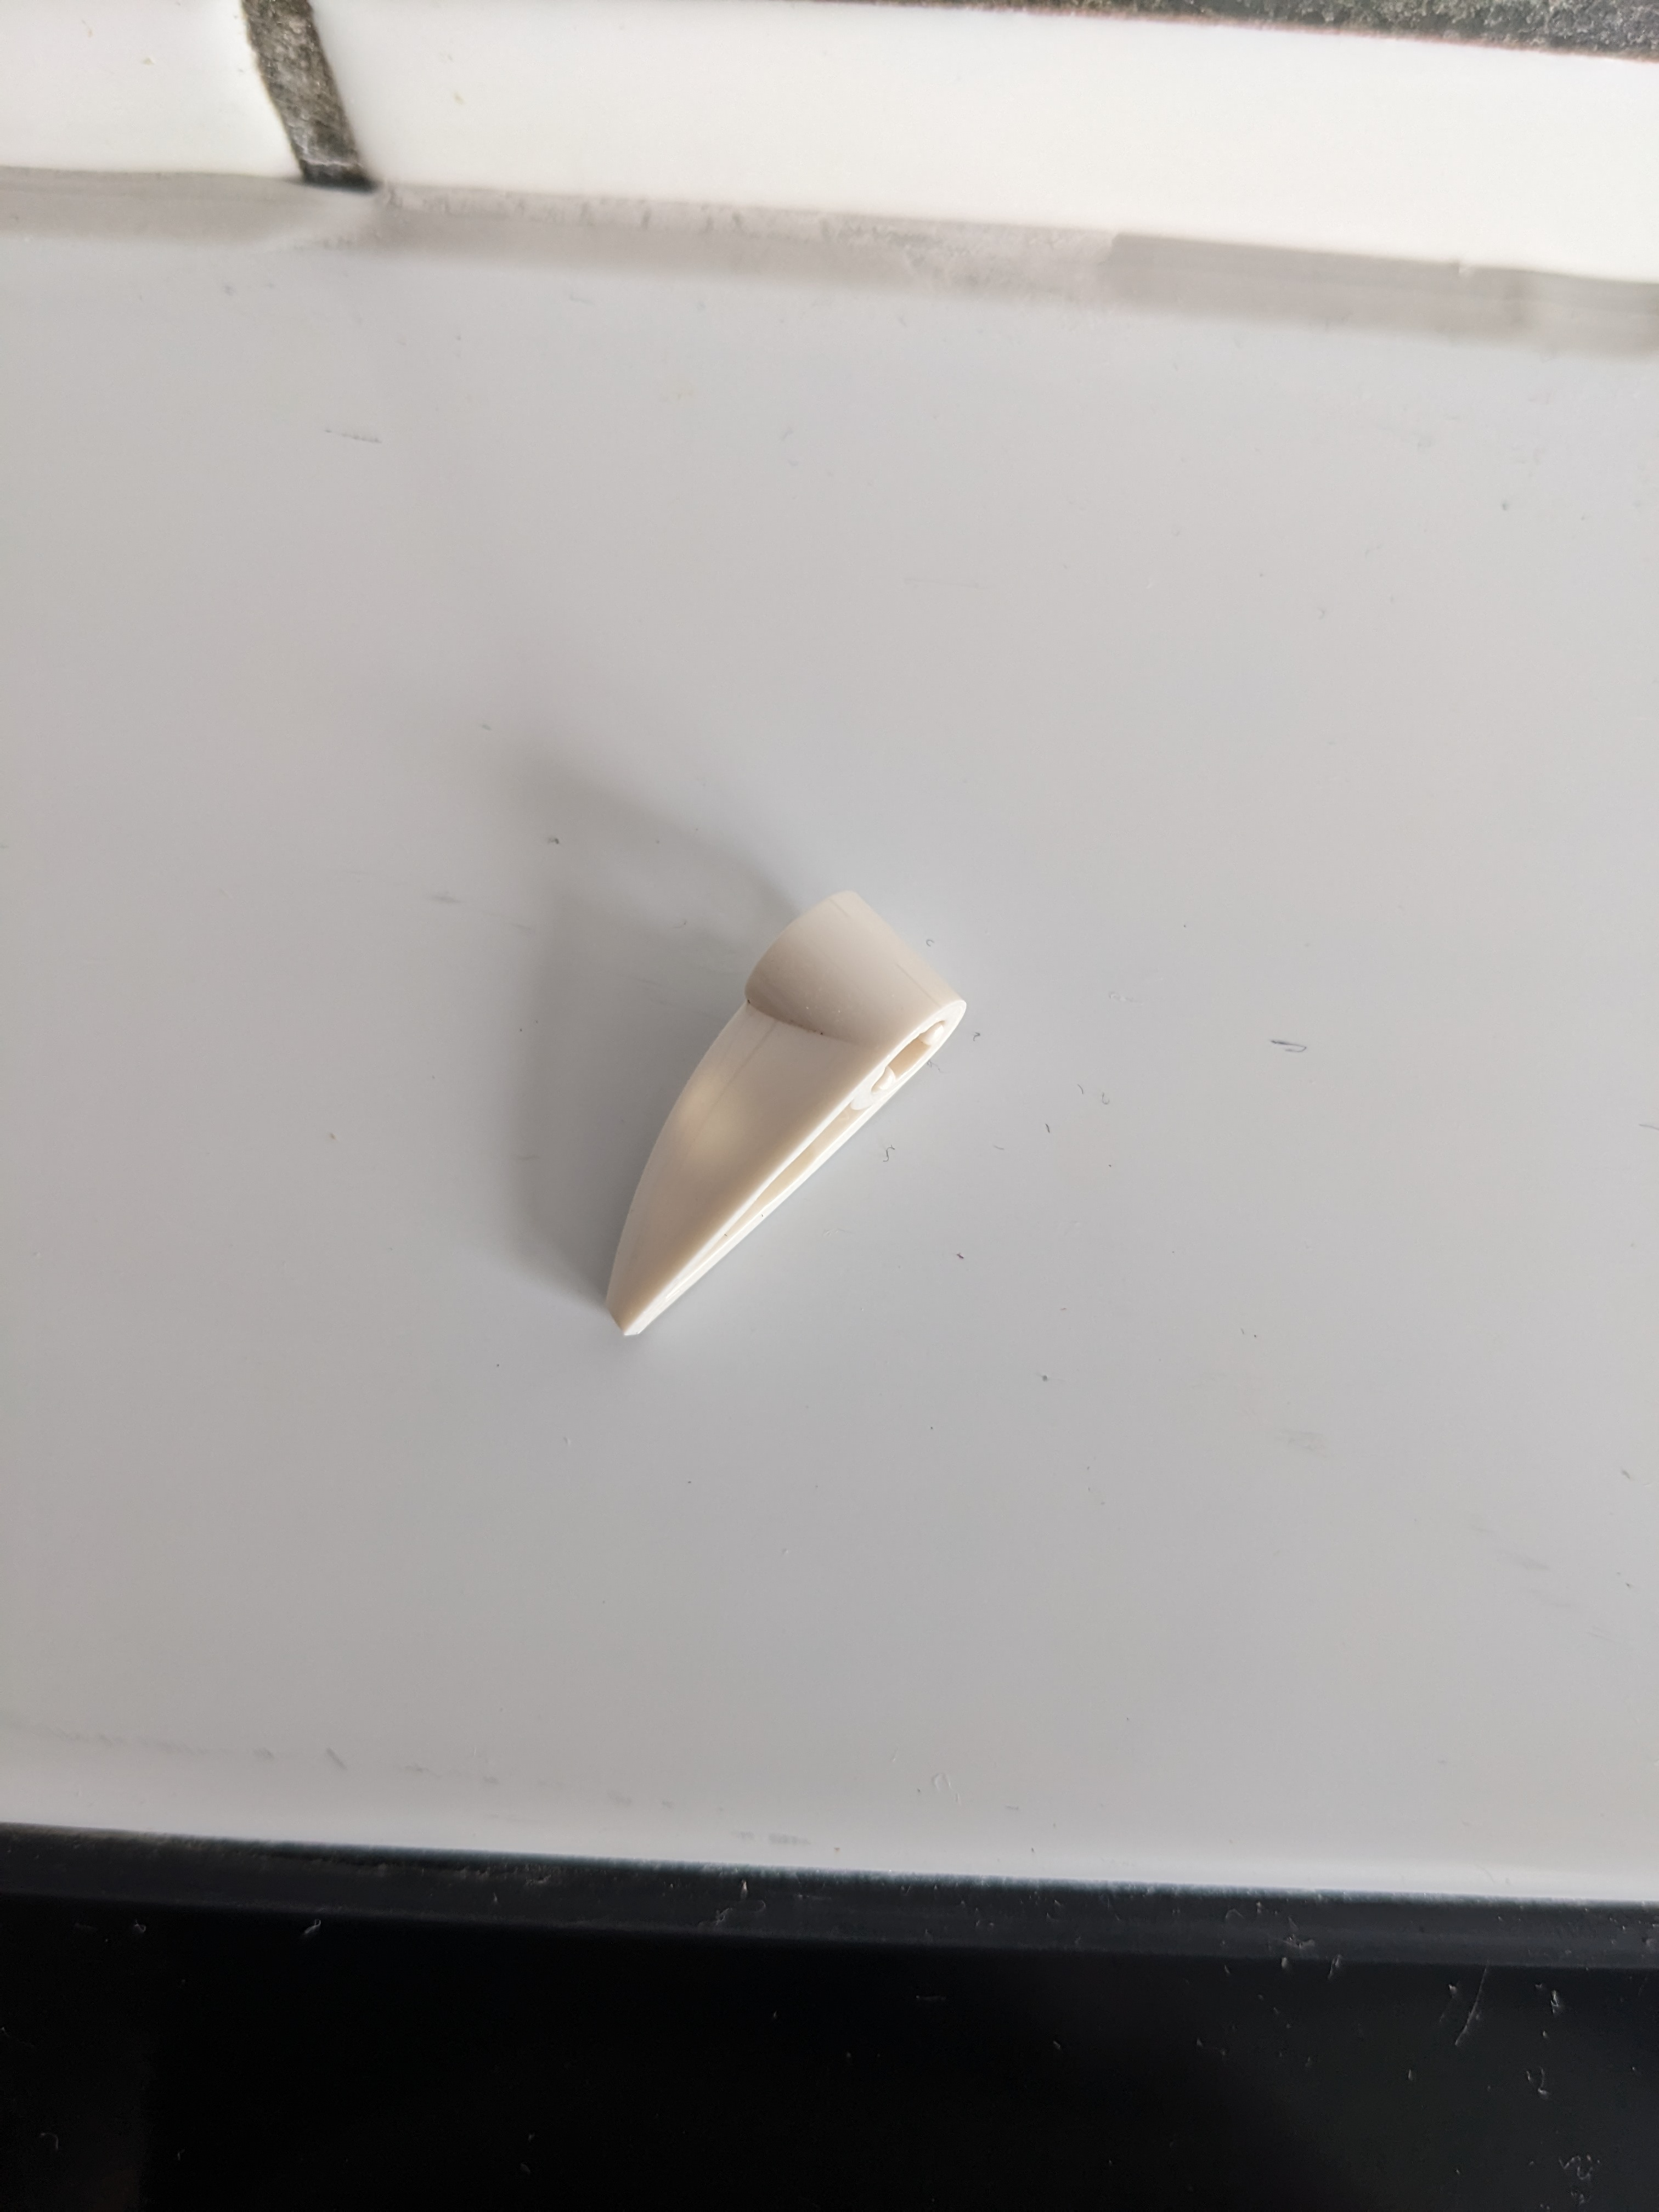Kappe: (559, 866, 979, 1359)
